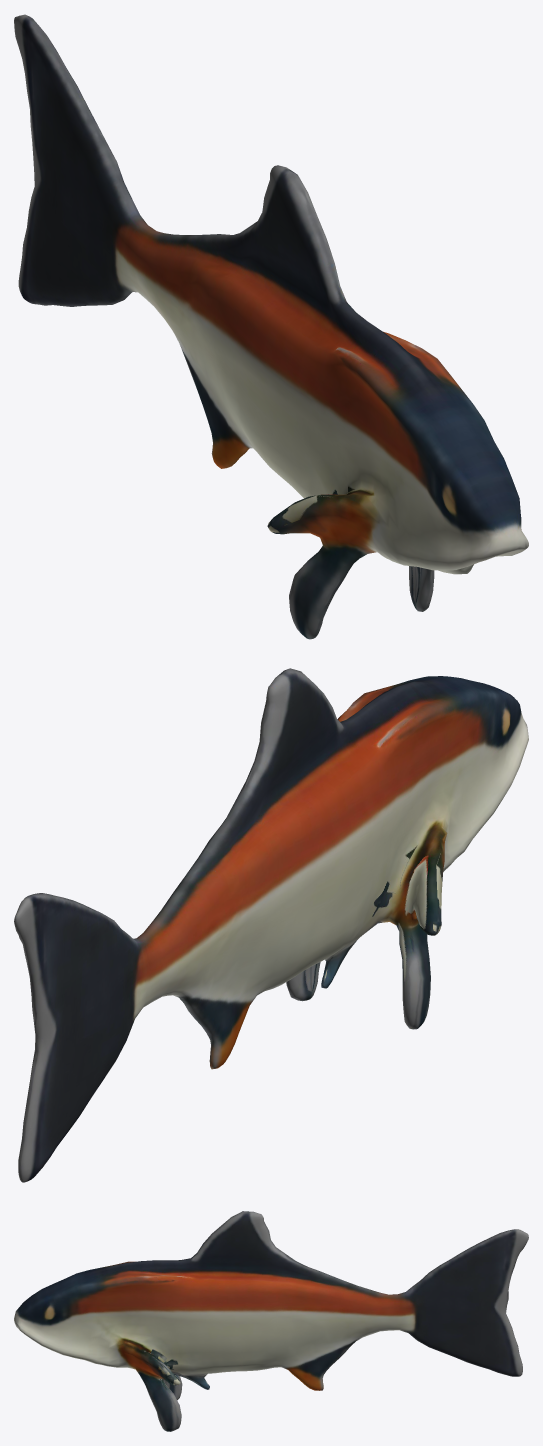
The model's file is fish_07.glb.
The picture shows the model from 3 angles, top to bottom: view 1: azimuth 30°, elevation 25°; view 2: azimuth 150°, elevation 25°; view 3: azimuth 270°, elevation 25°; orthographic projection. The views are drawn at different scales.
Visible parts, largest first — view 1: mesh; view 2: mesh; view 3: mesh.
Boxes of the visible parts, bbox=[...] form: mesh: bbox=[14, 14, 528, 639]; mesh: bbox=[14, 668, 528, 1182]; mesh: bbox=[14, 1211, 528, 1431].
Bounding box in the file's own units: 0.1991 × 0.4418 × 0.9975.
Materials: 1 (1 with a texture image).
